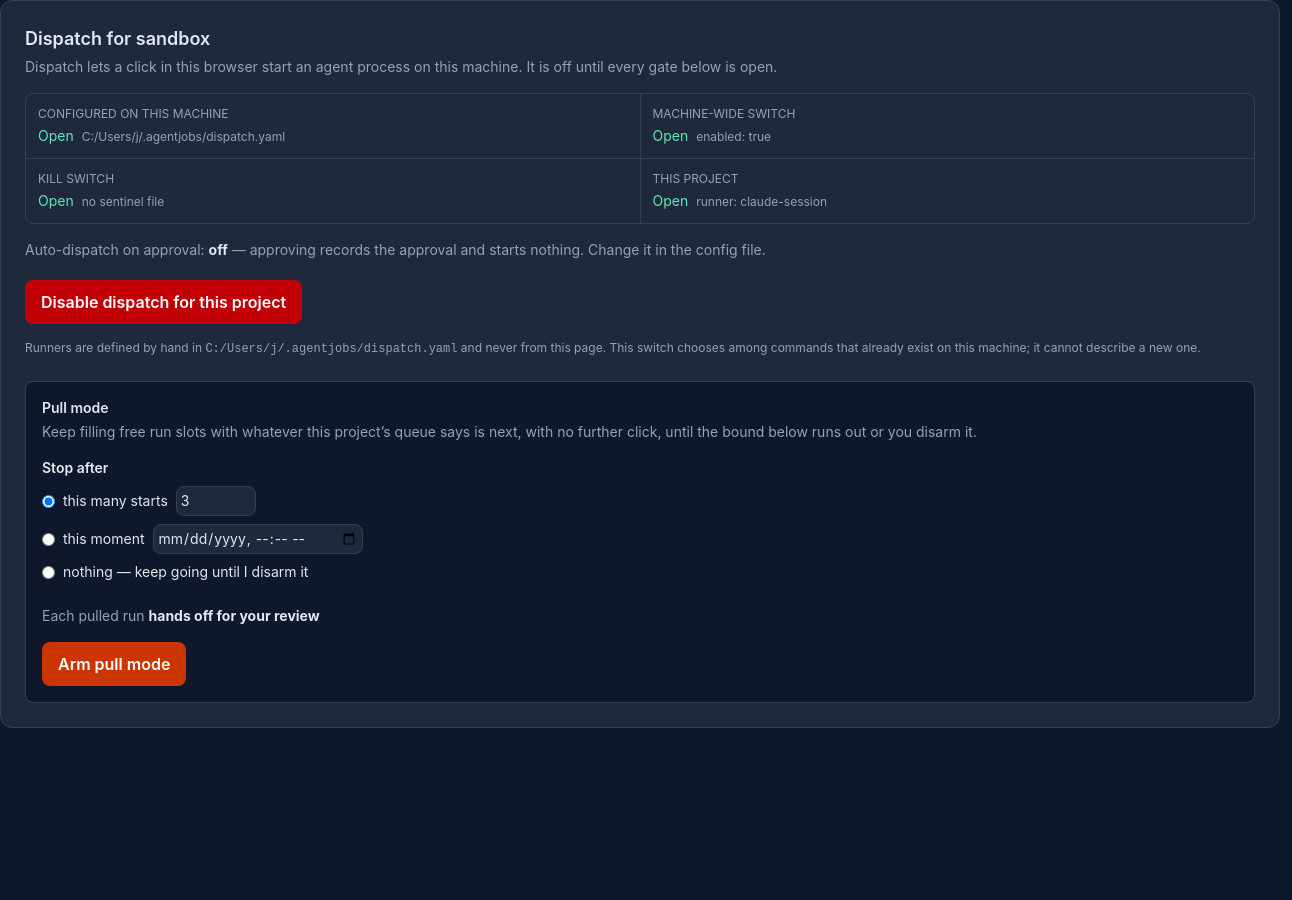
arming the pull mode (task-462) › will not arm an until-bound with no moment named
Click the radio button labelled "this moment".
click(48, 539)  # box x1=42 y1=532 x2=55 y2=546
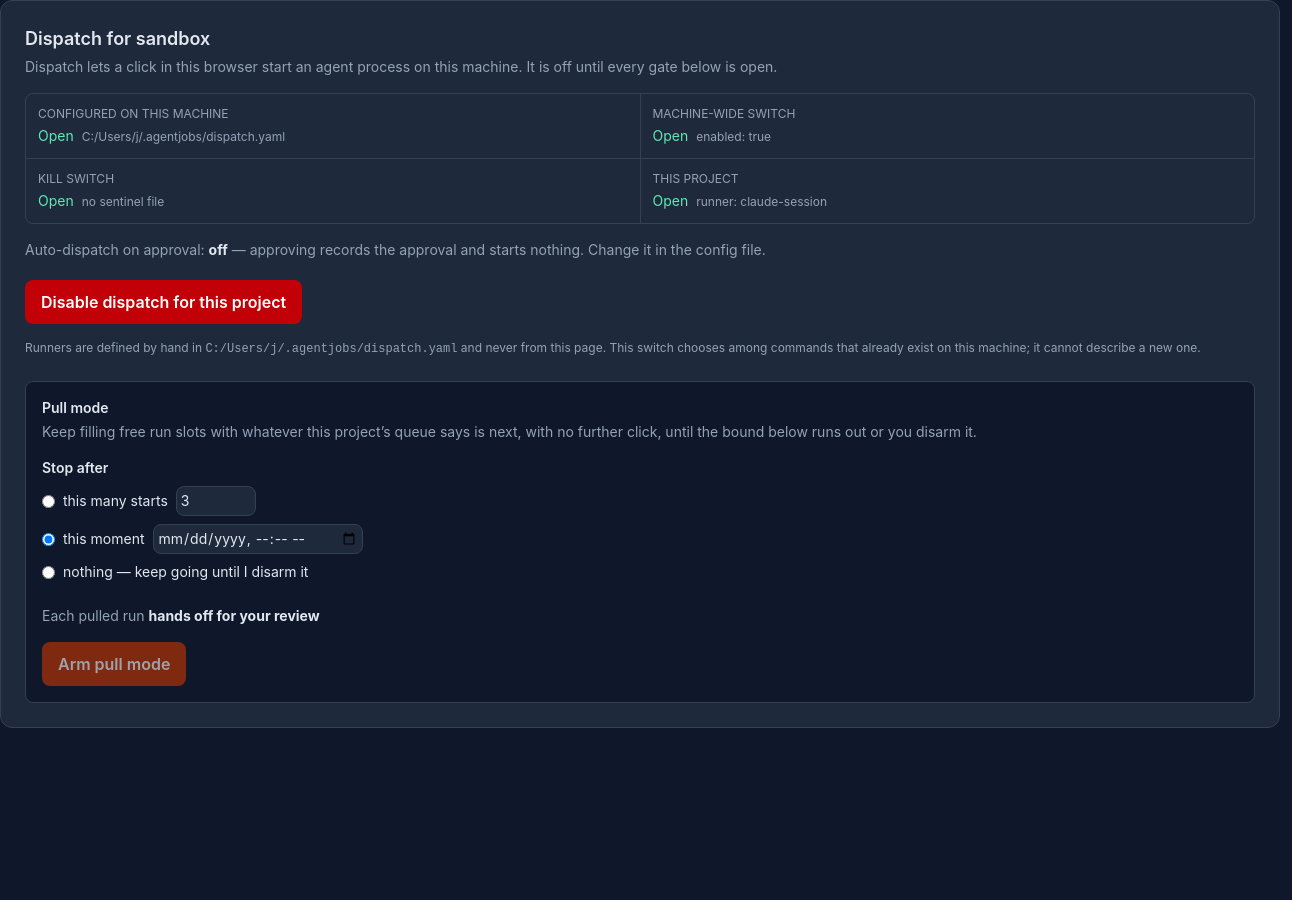
Expected: the button with test id "pull-mode-arm" is disabled, x1=42 y1=642 x2=186 y2=686
